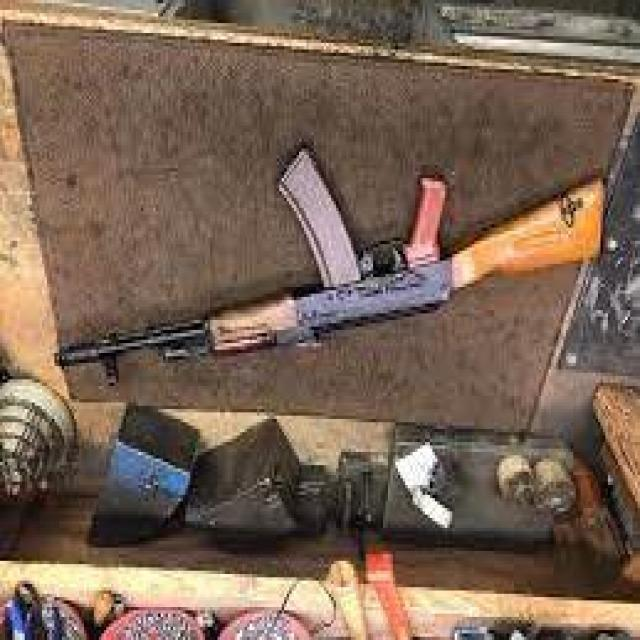weapon: (53, 145, 608, 388)
